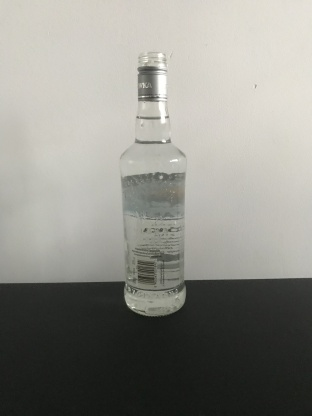nakretka: (135, 50, 169, 103)
